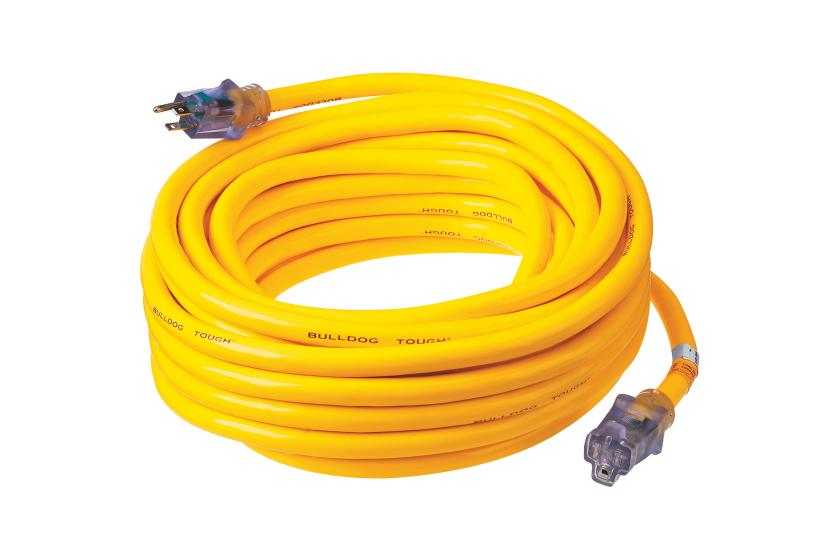Nonrec_Tangler: (112, 46, 726, 499)
